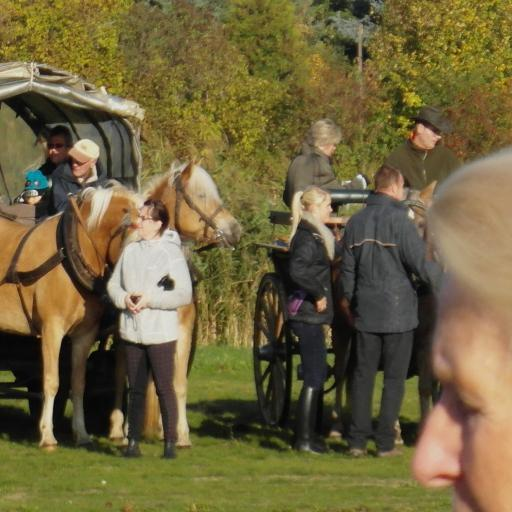horse: (0, 178, 147, 452), (107, 157, 244, 450)
